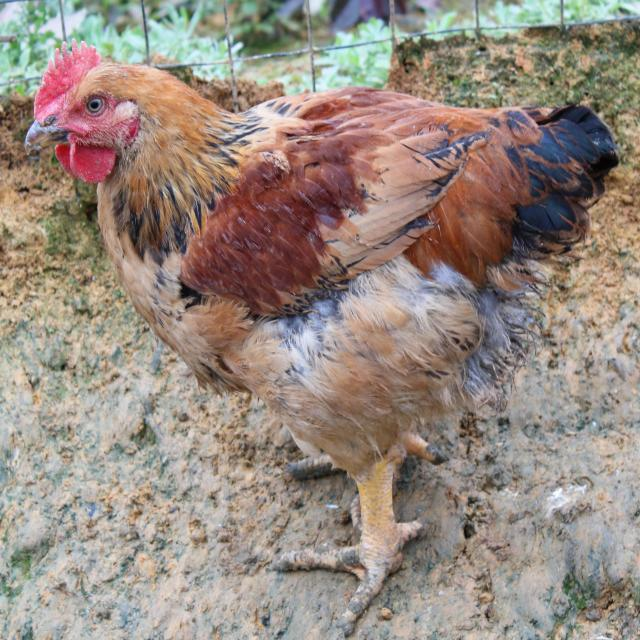hen: (26, 44, 618, 631)
